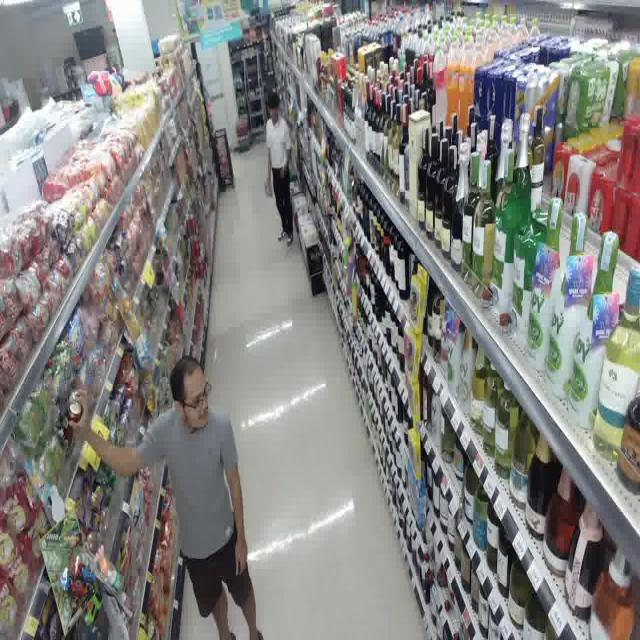pickup: (45, 327, 266, 640)
